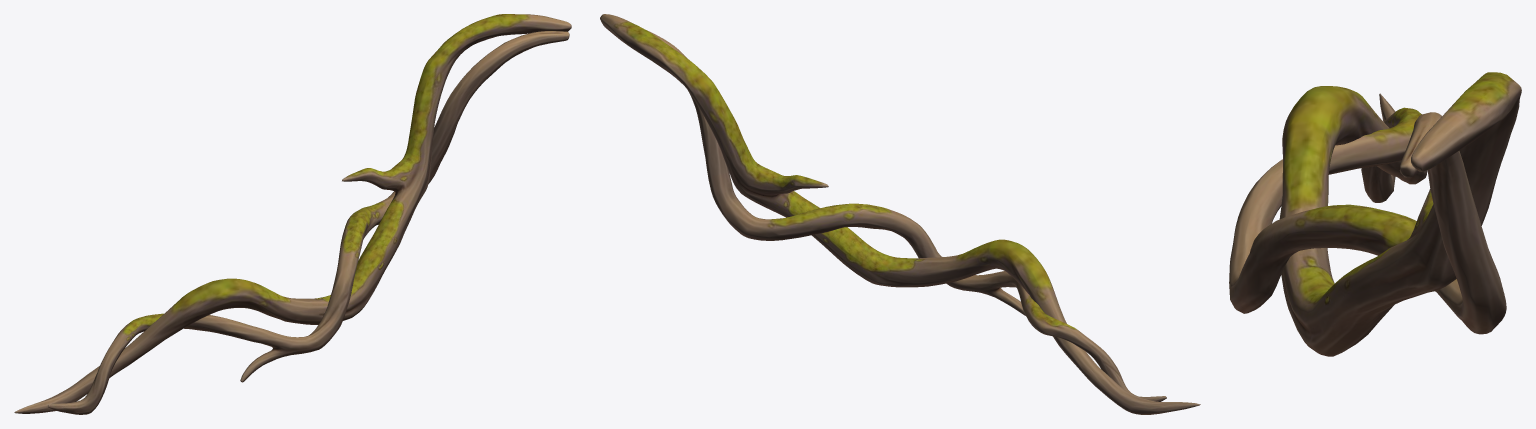
The model's file is sky_root_02b.glb.
The picture shows the model from 3 angles, left to right: view 1: azimuth 30°, elevation 25°; view 2: azimuth 150°, elevation 25°; view 3: azimuth 270°, elevation 25°; orthographic projection. The views are drawn at different scales.
Visible parts, largest first — view 1: root_02b; view 2: root_02b; view 3: root_02b.
Boxes of the visible parts, left/top/right/bottom form: root_02b: left=14, top=14, right=571, bottom=414; root_02b: left=600, top=14, right=1200, bottom=414; root_02b: left=1229, top=72, right=1521, bottom=356.
Size of the model in its own units: 18.56 by 8.49 by 4.15.
Materials: 1 (1 with a texture image).
